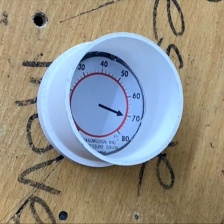gauge: (69, 54, 143, 153)
